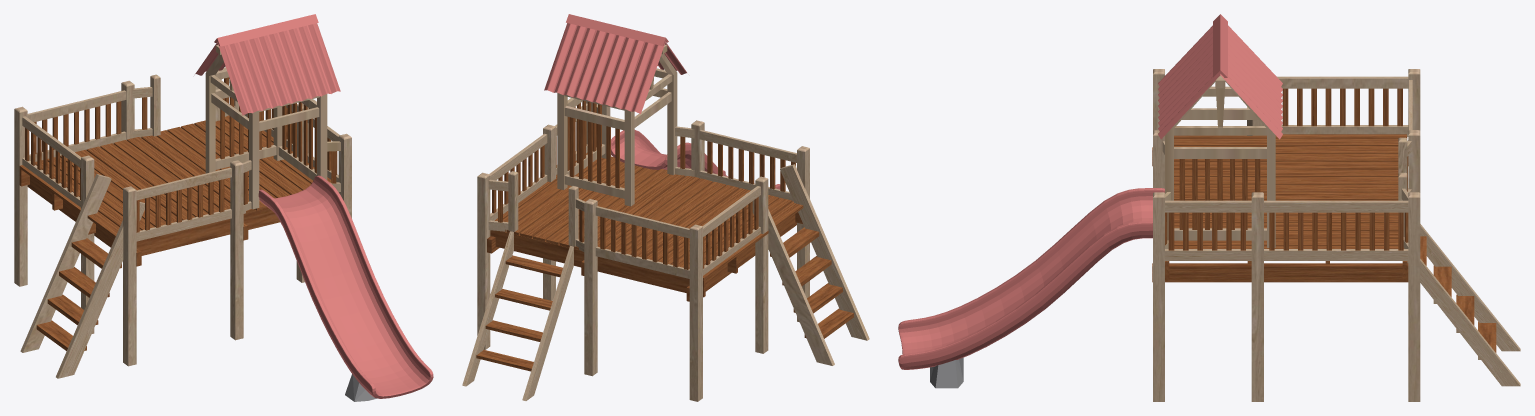
File: sweethome3d-blendswap-cc-0-child-hut-108.glb
3 views of the same model, side by side, from view 1: azimuth 30°, elevation 25°; view 2: azimuth 150°, elevation 25°; view 3: azimuth 270°, elevation 25° (orthographic). The views are drawn at different scales.
Visible parts, largest first — view 1: WoodParts, ChidHut; view 2: WoodParts, ChidHut; view 3: WoodParts, ChidHut.
Boxes of the visible parts, x1=… form: WoodParts: x1=14, y1=45, x2=351, y2=378; ChidHut: x1=195, y1=14, x2=433, y2=401; WoodParts: x1=462, y1=44, x2=869, y2=401; ChidHut: x1=544, y1=14, x2=780, y2=189; WoodParts: x1=1152, y1=69, x2=1520, y2=401; ChidHut: x1=898, y1=14, x2=1282, y2=388.
Size of the model in its own units: 328 by 302 by 521.
Materials: 4 (2 with a texture image).
